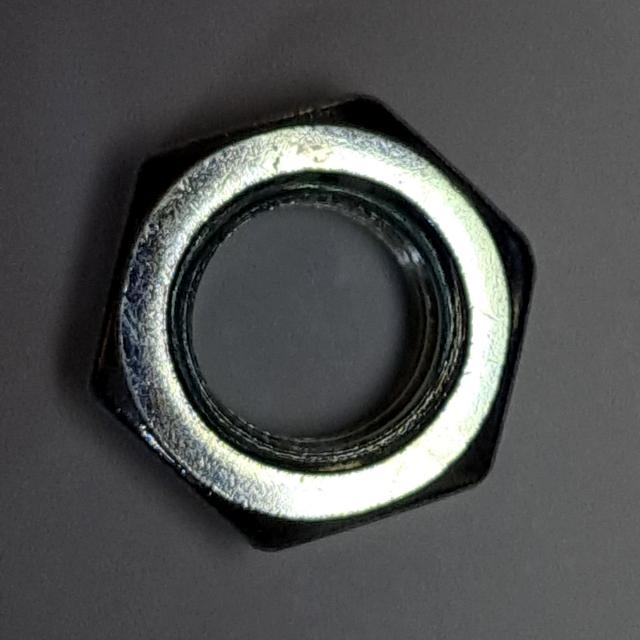Excellent: (72, 83, 542, 564)
